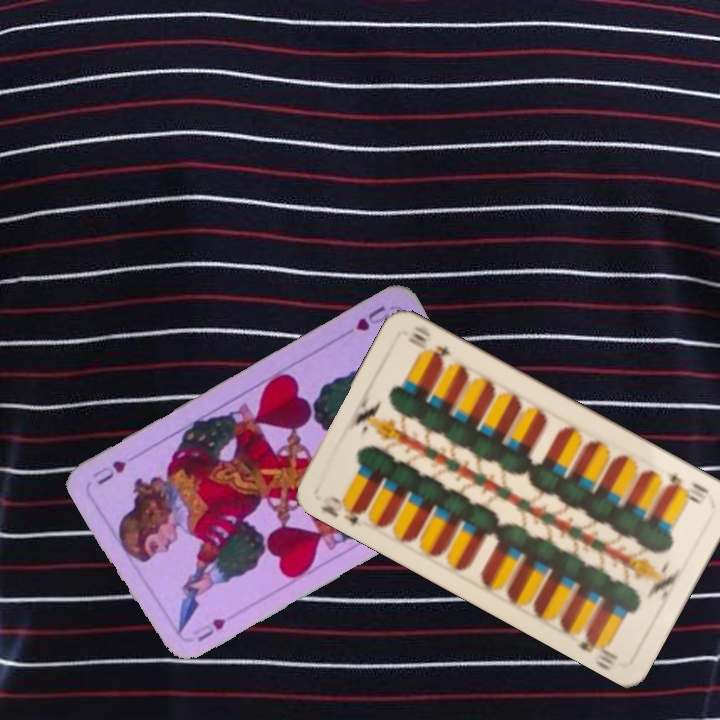E10: (317, 491, 369, 529), (660, 470, 713, 507)
HU: (351, 302, 392, 334), (188, 614, 229, 645)
